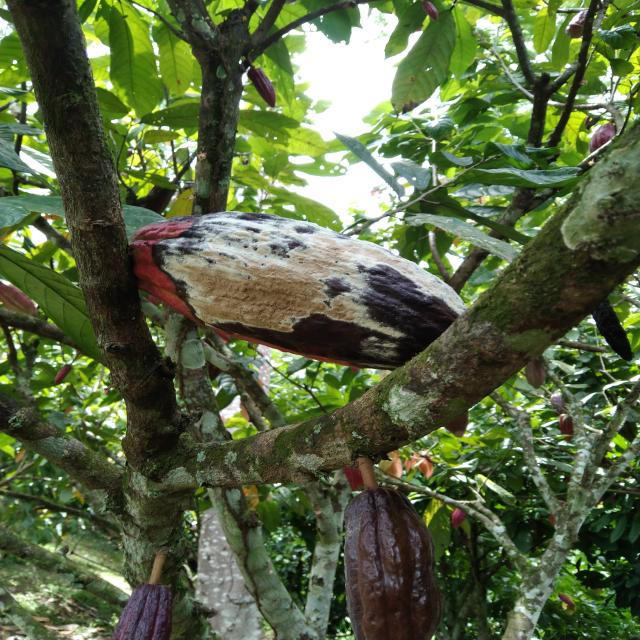Fitoftora: (334, 488, 438, 636)
Monilia: (122, 198, 474, 372)
Sana: (111, 578, 179, 640), (246, 66, 276, 104), (48, 366, 74, 384)
